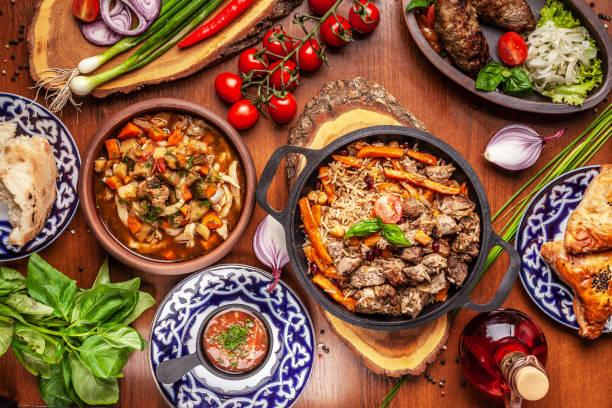Braised Crucian Carp: (255, 123, 515, 328), (78, 98, 252, 273), (146, 264, 313, 406), (403, 0, 611, 114)
